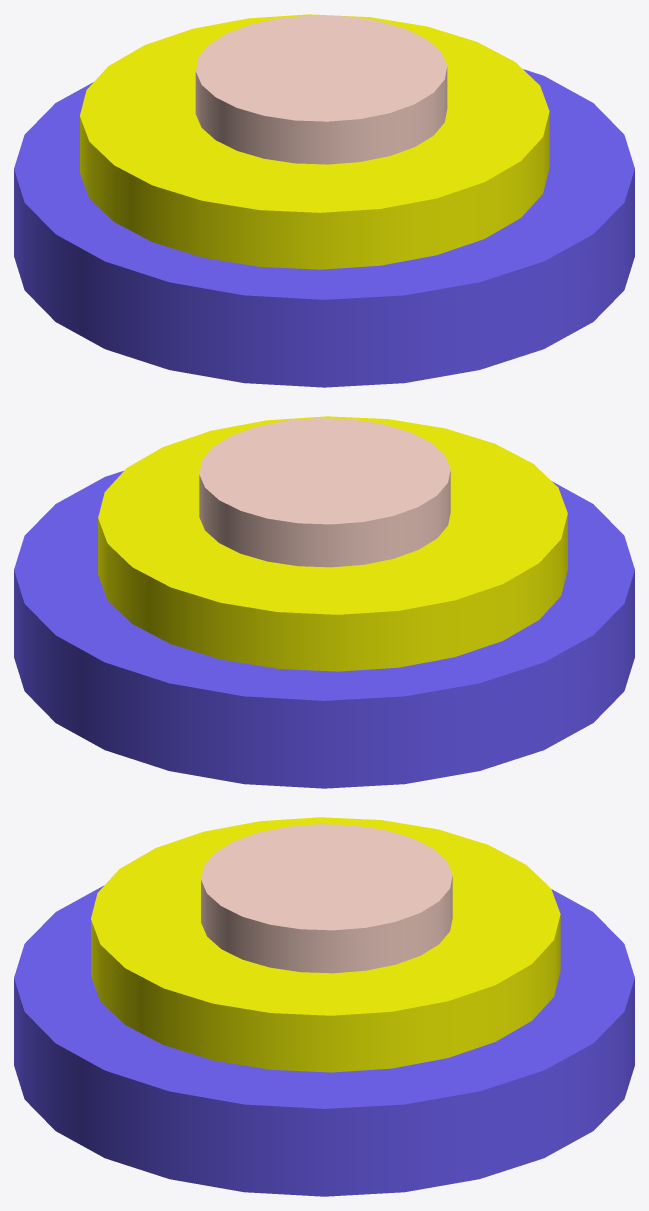
Rendered from cake.fbx.
3 views of the same model, one above another, from view 1: azimuth 30°, elevation 25°; view 2: azimuth 150°, elevation 25°; view 3: azimuth 270°, elevation 25° (orthographic).
Parts seen in each view (by area): view 1: Group1, Group2, Group3; view 2: Group1, Group2, Group3; view 3: Group1, Group2, Group3.
Boxes of the visible parts, left/top/right/bottom form: Group1: left=14, top=69, right=634, bottom=387; Group2: left=80, top=14, right=549, bottom=269; Group3: left=195, top=15, right=447, bottom=164; Group1: left=14, top=471, right=634, bottom=788; Group2: left=98, top=416, right=567, bottom=671; Group3: left=199, top=418, right=450, bottom=567; Group1: left=14, top=885, right=634, bottom=1196; Group2: left=91, top=817, right=560, bottom=1072; Group3: left=201, top=824, right=452, bottom=973.
Size of the model in its own units: 3005 by 1001 by 3005.
